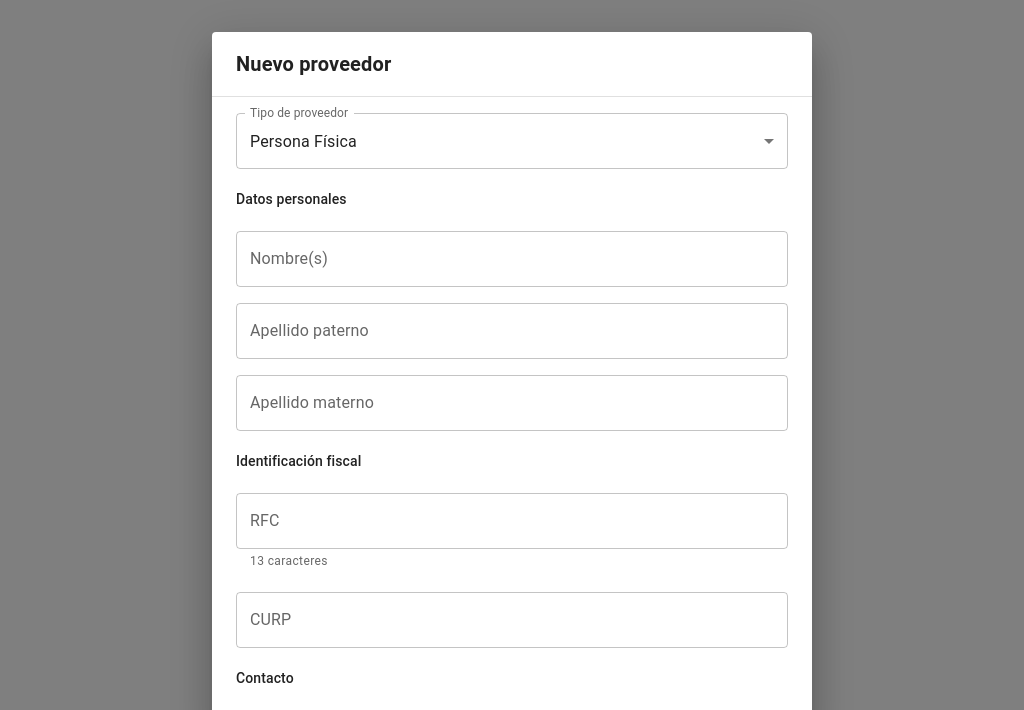
Test: CreateSupplierDialog › shows company fields when type changes
Press the mouse on the dropdown named "Tipo de proveedor" at (303, 141), box [250,132,357,150]
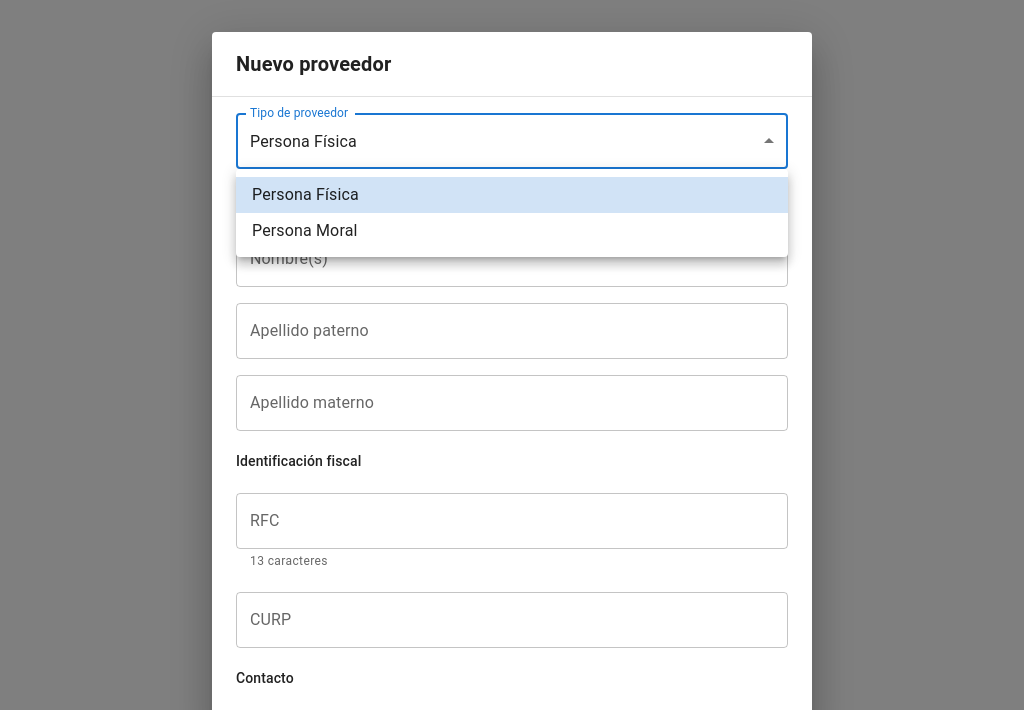
Click the option "Persona Moral" at (305, 230), box [252,221,358,240]
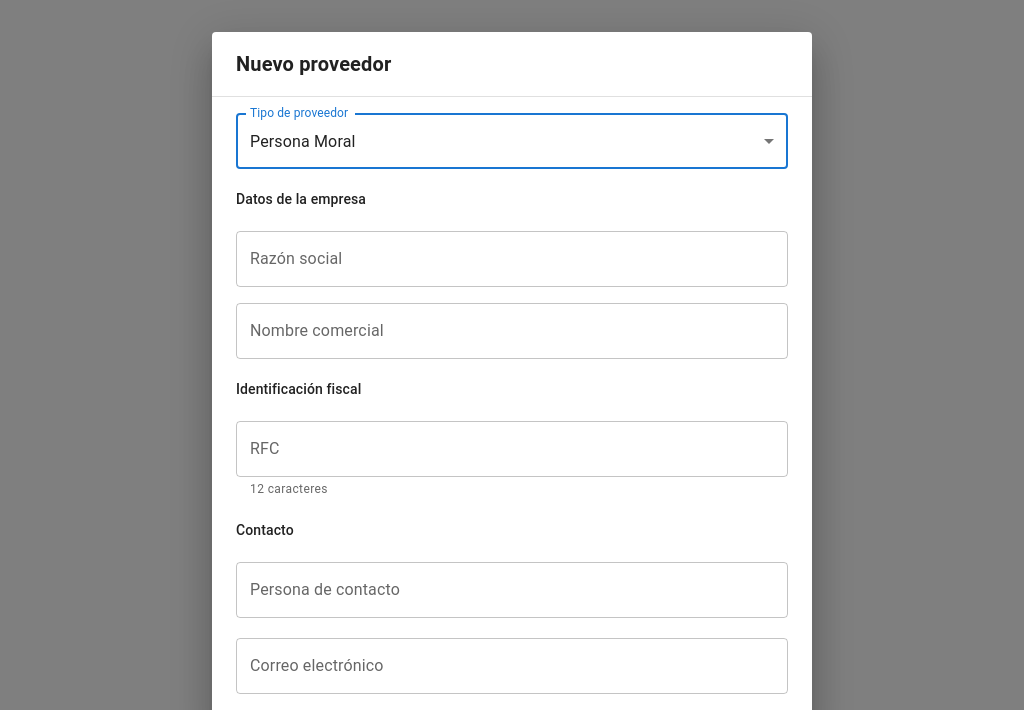
Expected: the field labelled "Razón social" is shown, [236,231,788,287]
